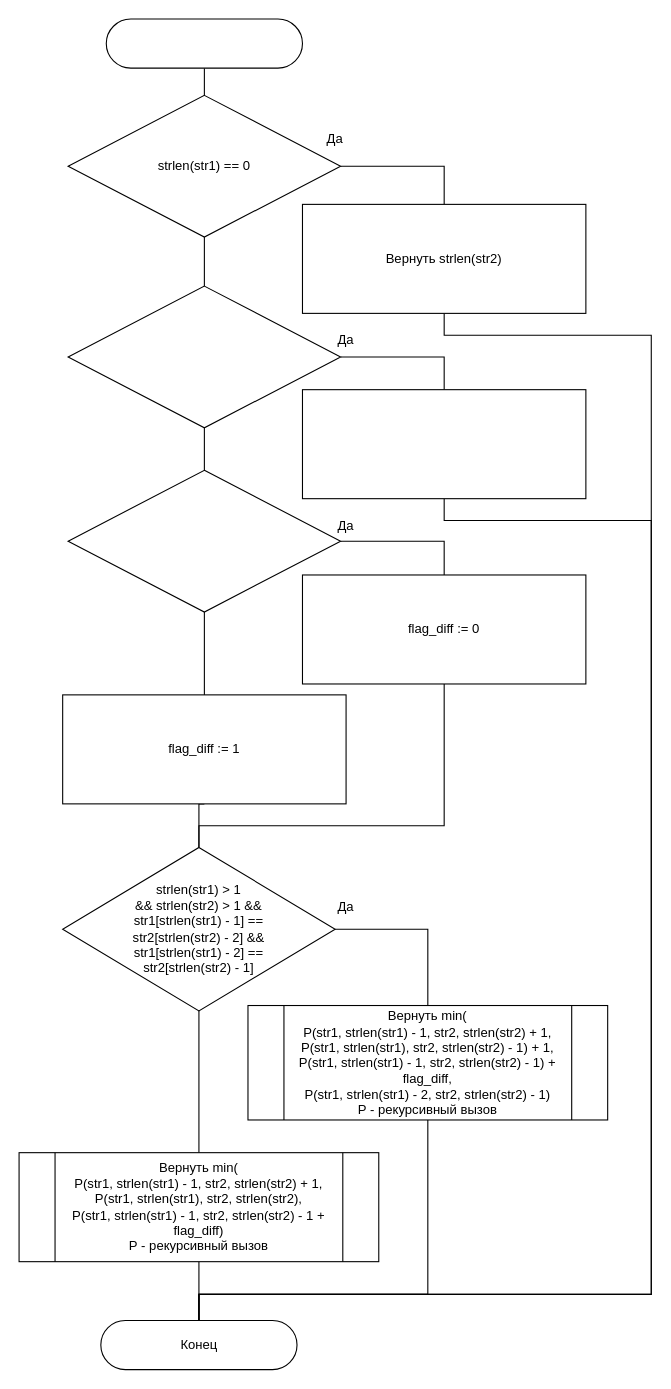
This 671x1389 diagram has some shape labels left out. Each missing label, with the centre of its shape:
"str1[strlen(str1) - 1] == str2[strlen(str2) - 1]" goes at point 204,540.
"strlen(str2) == 0" goes at point 204,356.
"Вернуть strlen(str1)" goes at point 443,444.
"Начало" goes at point 203,43.
